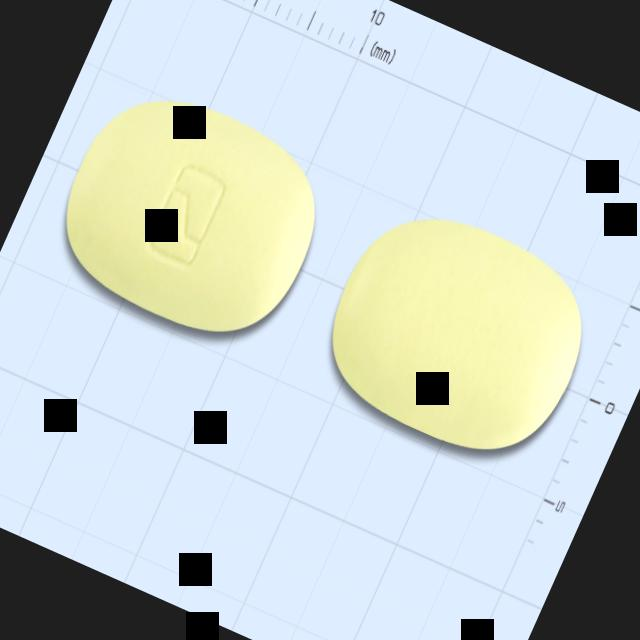Claroma: (35, 67, 348, 366)
